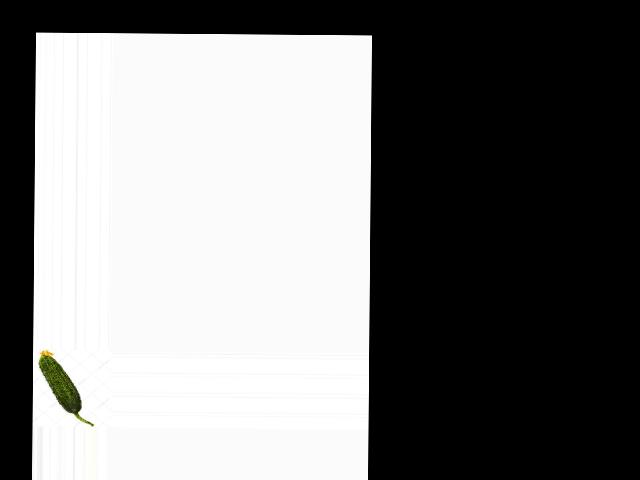cucumber: (37, 349, 94, 425)
